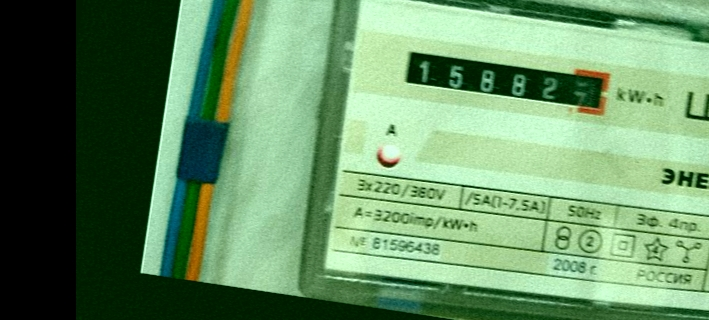1: (416, 58, 434, 85)
2: (541, 74, 561, 102)
5: (447, 63, 467, 90)
7: (572, 88, 588, 106)
8: (478, 67, 498, 93), (510, 70, 529, 97)
screen: (390, 35, 623, 127)
